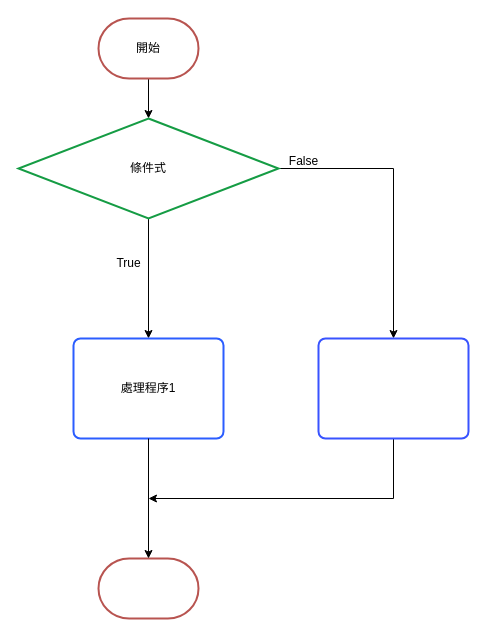
Some shapes in this 486 by 636 pixel diagram are drawn without their labels. Each missing label, with the centre of its shape:
"結束" belongs at (148,588).
"處理程序2" belongs at (393,388).
